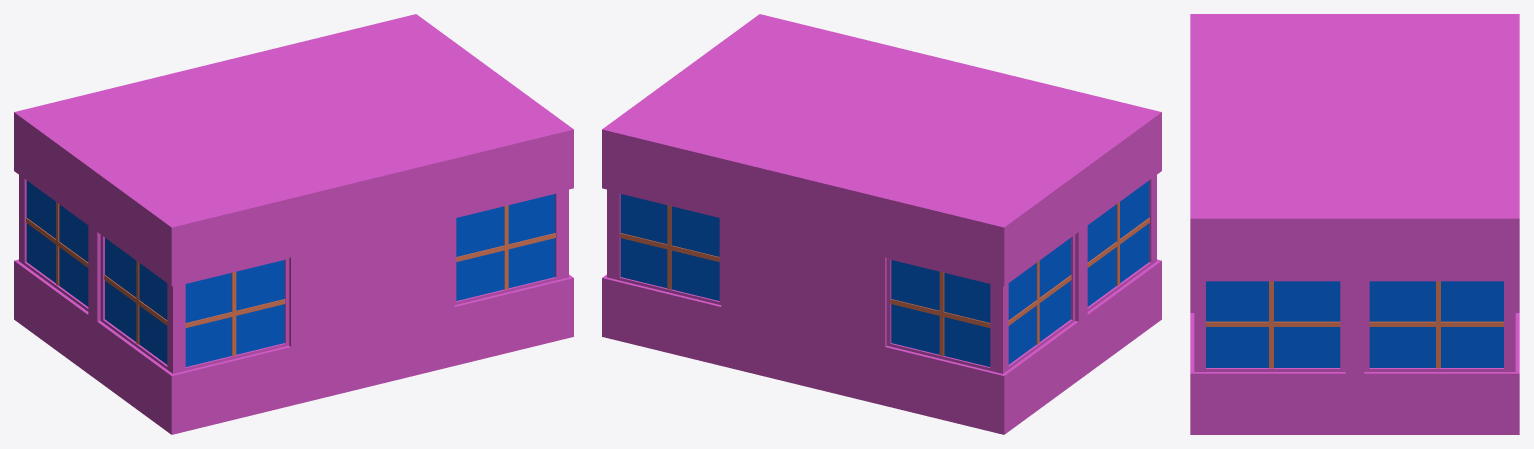
The model's file is house.fbx.
3 views of the same model, side by side, from view 1: azimuth 30°, elevation 25°; view 2: azimuth 150°, elevation 25°; view 3: azimuth 270°, elevation 25° (orthographic). The views are drawn at different scales.
Parts seen in each view (by area): view 1: house; view 2: house; view 3: house.
Boxes of the visible parts, left/top/right/bottom form: house: left=14, top=14, right=573, bottom=434; house: left=602, top=14, right=1161, bottom=434; house: left=1190, top=14, right=1519, bottom=434.
Bounding box in the file's own units: 34546 × 17019 × 23465.
